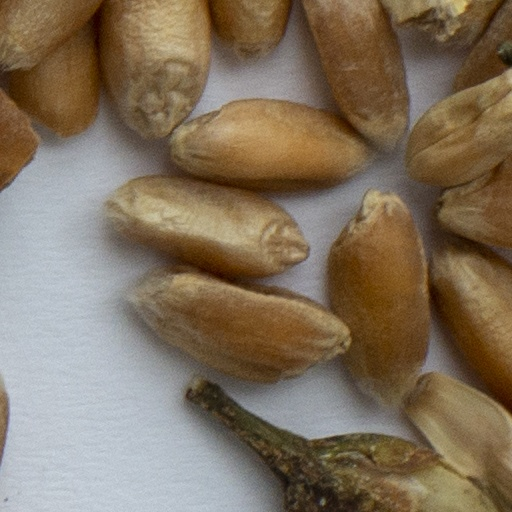Peel-poly: (186, 379, 486, 511), (394, 372, 511, 511), (0, 94, 37, 188), (382, 0, 463, 34)
